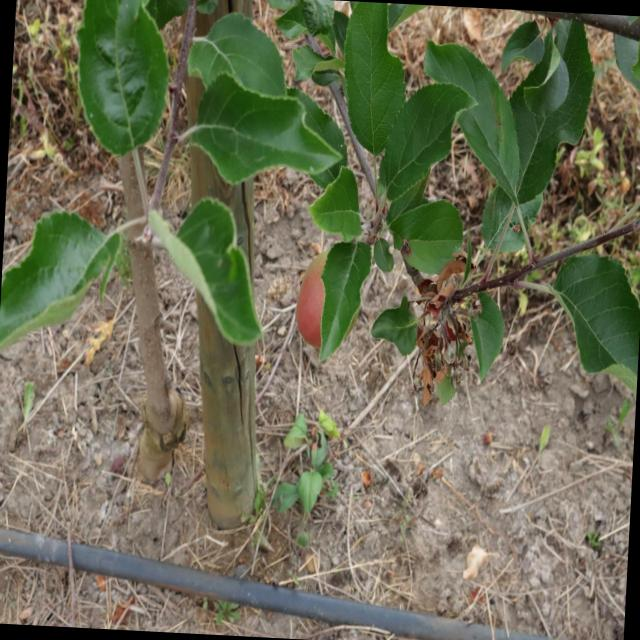-FireBlight-: (411, 266, 473, 412)
